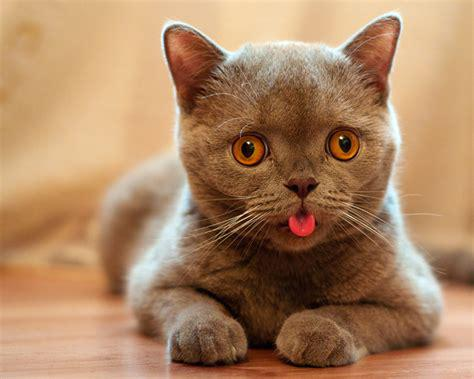cat: (94, 13, 442, 366)
